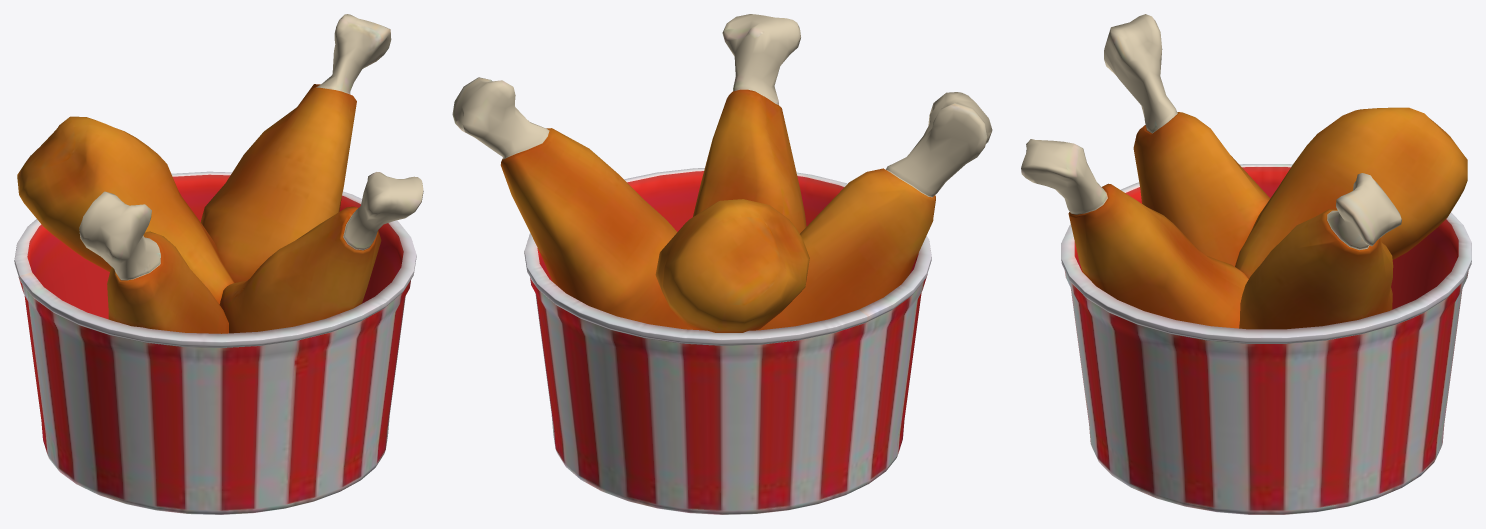
File: prop_chickenWings.glb
3 renders of one model, left to right at view 1: azimuth 30°, elevation 25°; view 2: azimuth 150°, elevation 25°; view 3: azimuth 270°, elevation 25°, orthographic. The views are drawn at different scales.
Visible parts, largest first — view 1: pot_003_mesh, chicken_drumstick_002_mesh, chicken_drumstick_002_mesh1, chicken_drumstick_003_mesh, chicken_drumstick_001_mesh; view 2: pot_003_mesh, chicken_drumstick_002_mesh, chicken_drumstick_001_mesh, chicken_drumstick_002_mesh1, chicken_drumstick_003_mesh; view 3: pot_003_mesh, chicken_drumstick_002_mesh1, chicken_drumstick_003_mesh, chicken_drumstick_001_mesh, chicken_drumstick_002_mesh.
Part boxes in pixels (x1,y1,x2,y2): pot_003_mesh: (14,171,416,514); chicken_drumstick_002_mesh: (201,14,391,282); chicken_drumstick_002_mesh1: (17,116,234,304); chicken_drumstick_003_mesh: (219,172,423,333); chicken_drumstick_001_mesh: (79,191,228,333); pot_003_mesh: (524,168,931,514); chicken_drumstick_002_mesh: (452,77,693,329); chicken_drumstick_001_mesh: (758,92,992,330); chicken_drumstick_002_mesh1: (655,199,809,332); chicken_drumstick_003_mesh: (693,14,806,233); pot_003_mesh: (1061,164,1471,514); chicken_drumstick_002_mesh1: (1235,107,1467,278); chicken_drumstick_003_mesh: (1021,139,1248,328); chicken_drumstick_001_mesh: (1104,14,1270,266); chicken_drumstick_002_mesh: (1239,173,1401,329).
Bounding box in the file's own units: 0.3184 × 0.2551 × 0.2901.
Materials: 2 (2 with a texture image).
